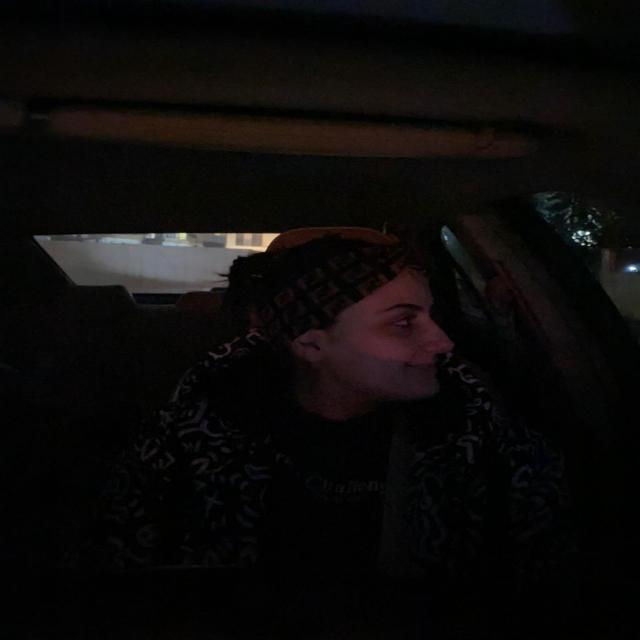LeftRight: (231, 222, 470, 426)
